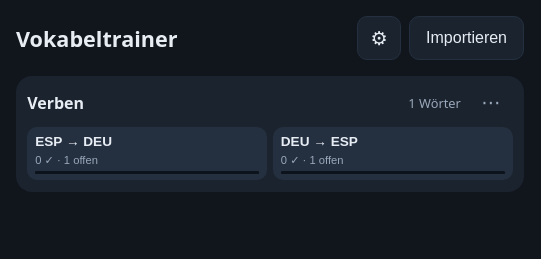
Test: LibraryView mit Übungen › zeigt bei einer Liste ohne Übungen weder Kachel noch Zurücksetzen der Übungen
Click the button named "Weitere Aktionen für Verben".
click(491, 103)  # box [469,85,513,121]
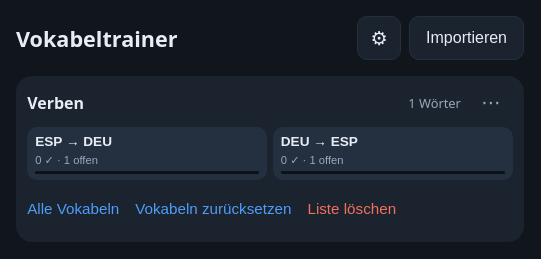
Result: the button "Vokabeln zurücksetzen" is shown at [135,187,291,231]
